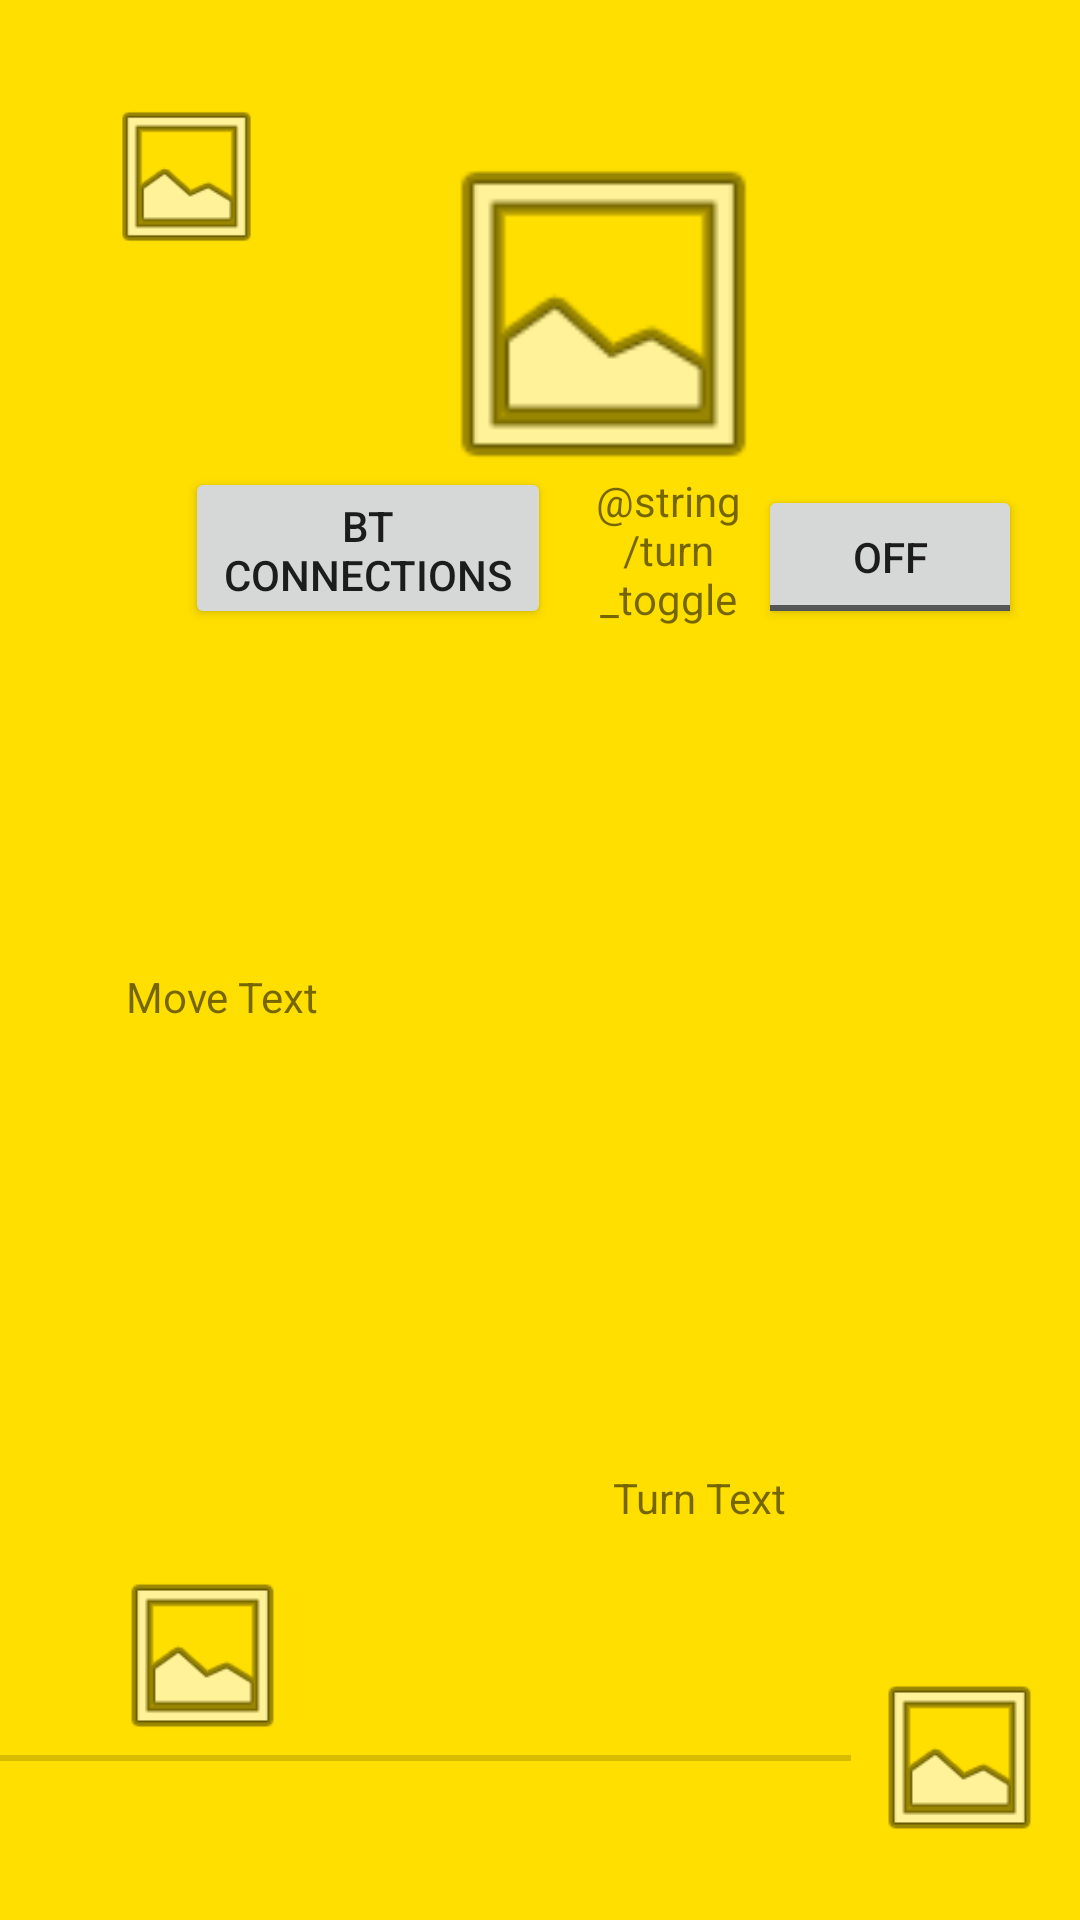

Named icons in this screenshot (1080px x 1920px) and their centers, point (x, y):
gallery: point (186, 176), point (603, 331), point (202, 1655), point (959, 1757)
